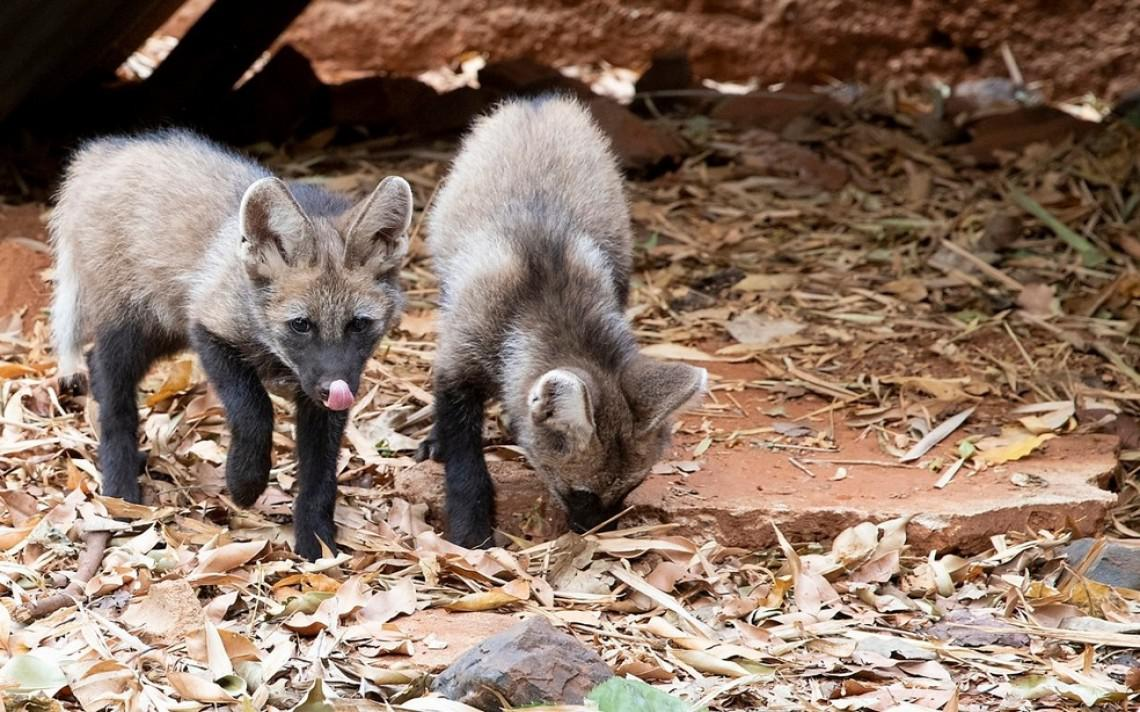LoboGuara: (48, 119, 419, 570), (416, 68, 716, 549)
